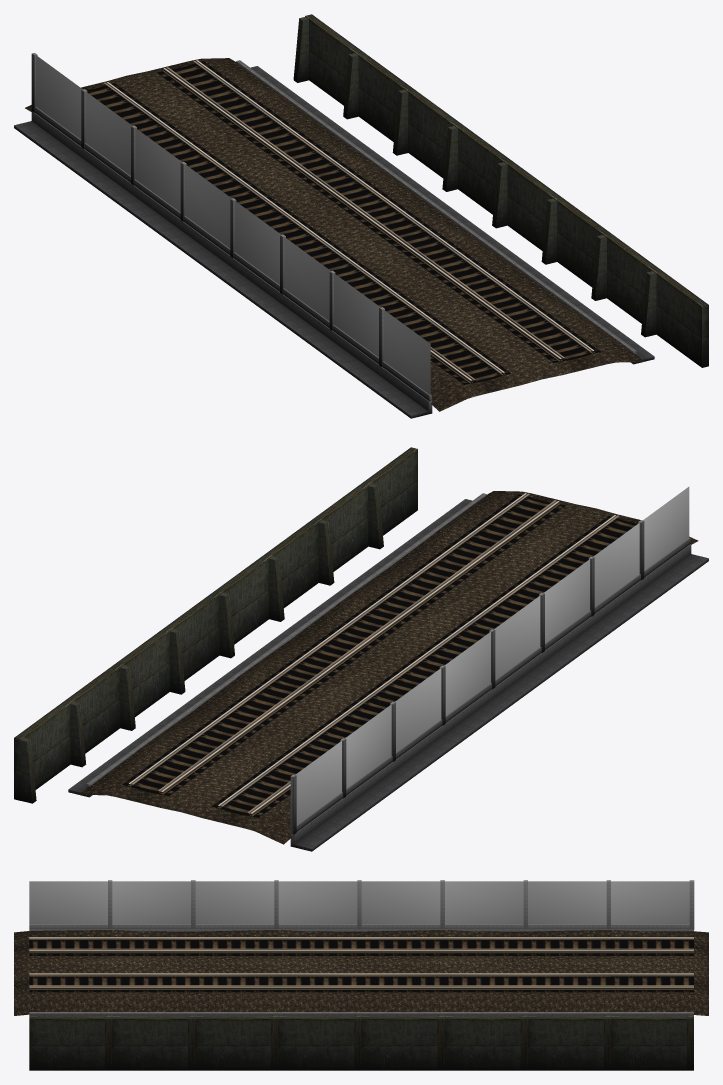
File: KIN_2RAIL_100_KAWACHI.glb
3 renders of one model, top to bottom at view 1: azimuth 30°, elevation 25°; view 2: azimuth 150°, elevation 25°; view 3: azimuth 270°, elevation 25°, orthographic. The views are drawn at different scales.
Parts seen in each view (by area): view 1: Jari_All, R000_RG_L, R000_RG_R, bone_5, bone_2, bone_7, bone_4, bone_1, bone_6, bone_3, bone_0; view 2: Jari_All, R000_RG_L, R000_RG_R, bone_0, bone_7, bone_6, bone_1, bone_4, bone_2, bone_5, bone_3; view 3: Jari_All, R000_RG_L, R000_RG_R, bone_0.
Part boxes in pixels (bbox=[...]): Jari_All: bbox=[14, 14, 708, 418]; R000_RG_L: bbox=[103, 60, 591, 373]; R000_RG_R: bbox=[166, 67, 564, 381]; bone_5: bbox=[280, 198, 557, 294]; bone_2: bbox=[131, 89, 408, 185]; bone_7: bbox=[379, 271, 656, 366]; bone_4: bbox=[230, 162, 507, 257]; bone_1: bbox=[81, 53, 358, 148]; bone_6: bbox=[329, 235, 606, 330]; bone_3: bbox=[180, 126, 457, 221]; bone_0: bbox=[31, 17, 308, 112]; Jari_All: bbox=[14, 447, 708, 851]; R000_RG_L: bbox=[131, 493, 619, 807]; R000_RG_R: bbox=[158, 500, 556, 814]; bone_0: bbox=[21, 737, 296, 834]; bone_7: bbox=[368, 483, 644, 580]; bone_6: bbox=[318, 519, 594, 616]; bone_1: bbox=[70, 701, 346, 798]; bone_4: bbox=[219, 592, 495, 689]; bone_2: bbox=[120, 665, 395, 761]; bone_5: bbox=[269, 556, 544, 652]; bone_3: bbox=[170, 628, 445, 725]; Jari_All: bbox=[14, 881, 708, 1070]; R000_RG_L: bbox=[29, 948, 693, 986]; R000_RG_R: bbox=[29, 938, 693, 976]; bone_0: bbox=[687, 880, 694, 1016].
Size of the model in its own units: 43.32 by 12.57 by 105.
26 materials, 25 textured.
